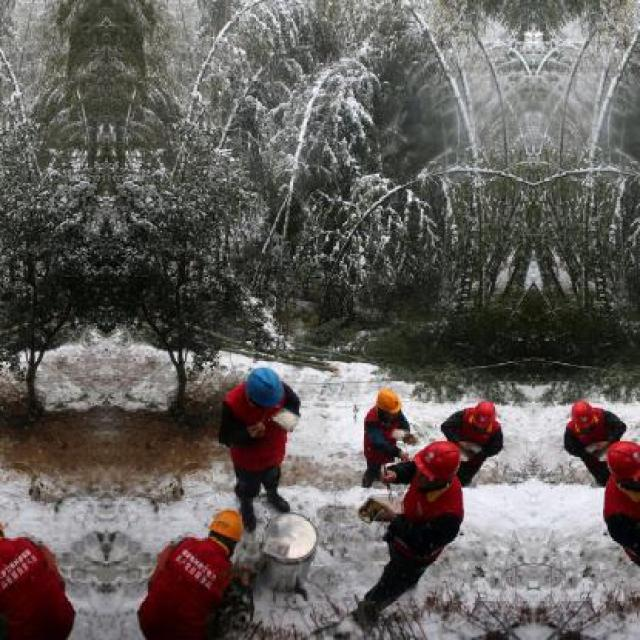helmet: (401, 441, 464, 485), (241, 364, 285, 411), (204, 505, 242, 557), (600, 440, 637, 486), (458, 398, 506, 432), (558, 398, 606, 432), (376, 388, 406, 422), (0, 504, 9, 558)
